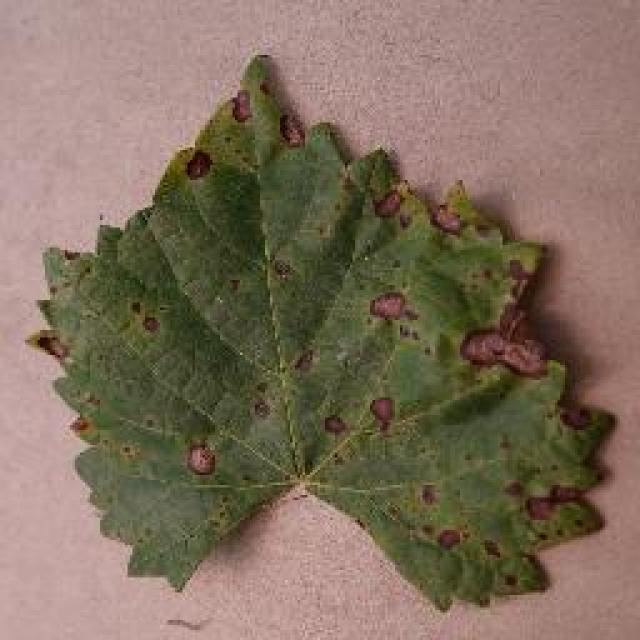Grape___Black_rot: (18, 53, 622, 621)
